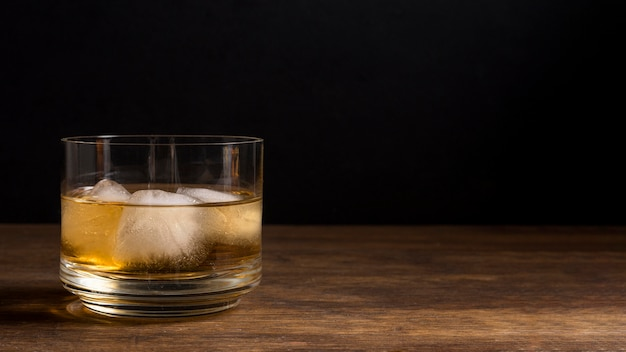alcohol: (56, 132, 263, 319)
